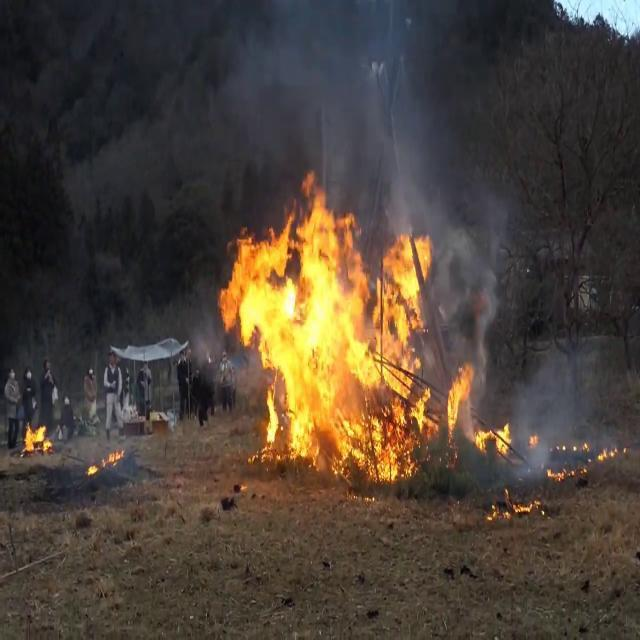Fire: (214, 178, 446, 486), (445, 359, 515, 457), (547, 428, 624, 474), (86, 444, 126, 480), (23, 416, 52, 454)
Smoke: (208, 0, 514, 274)
